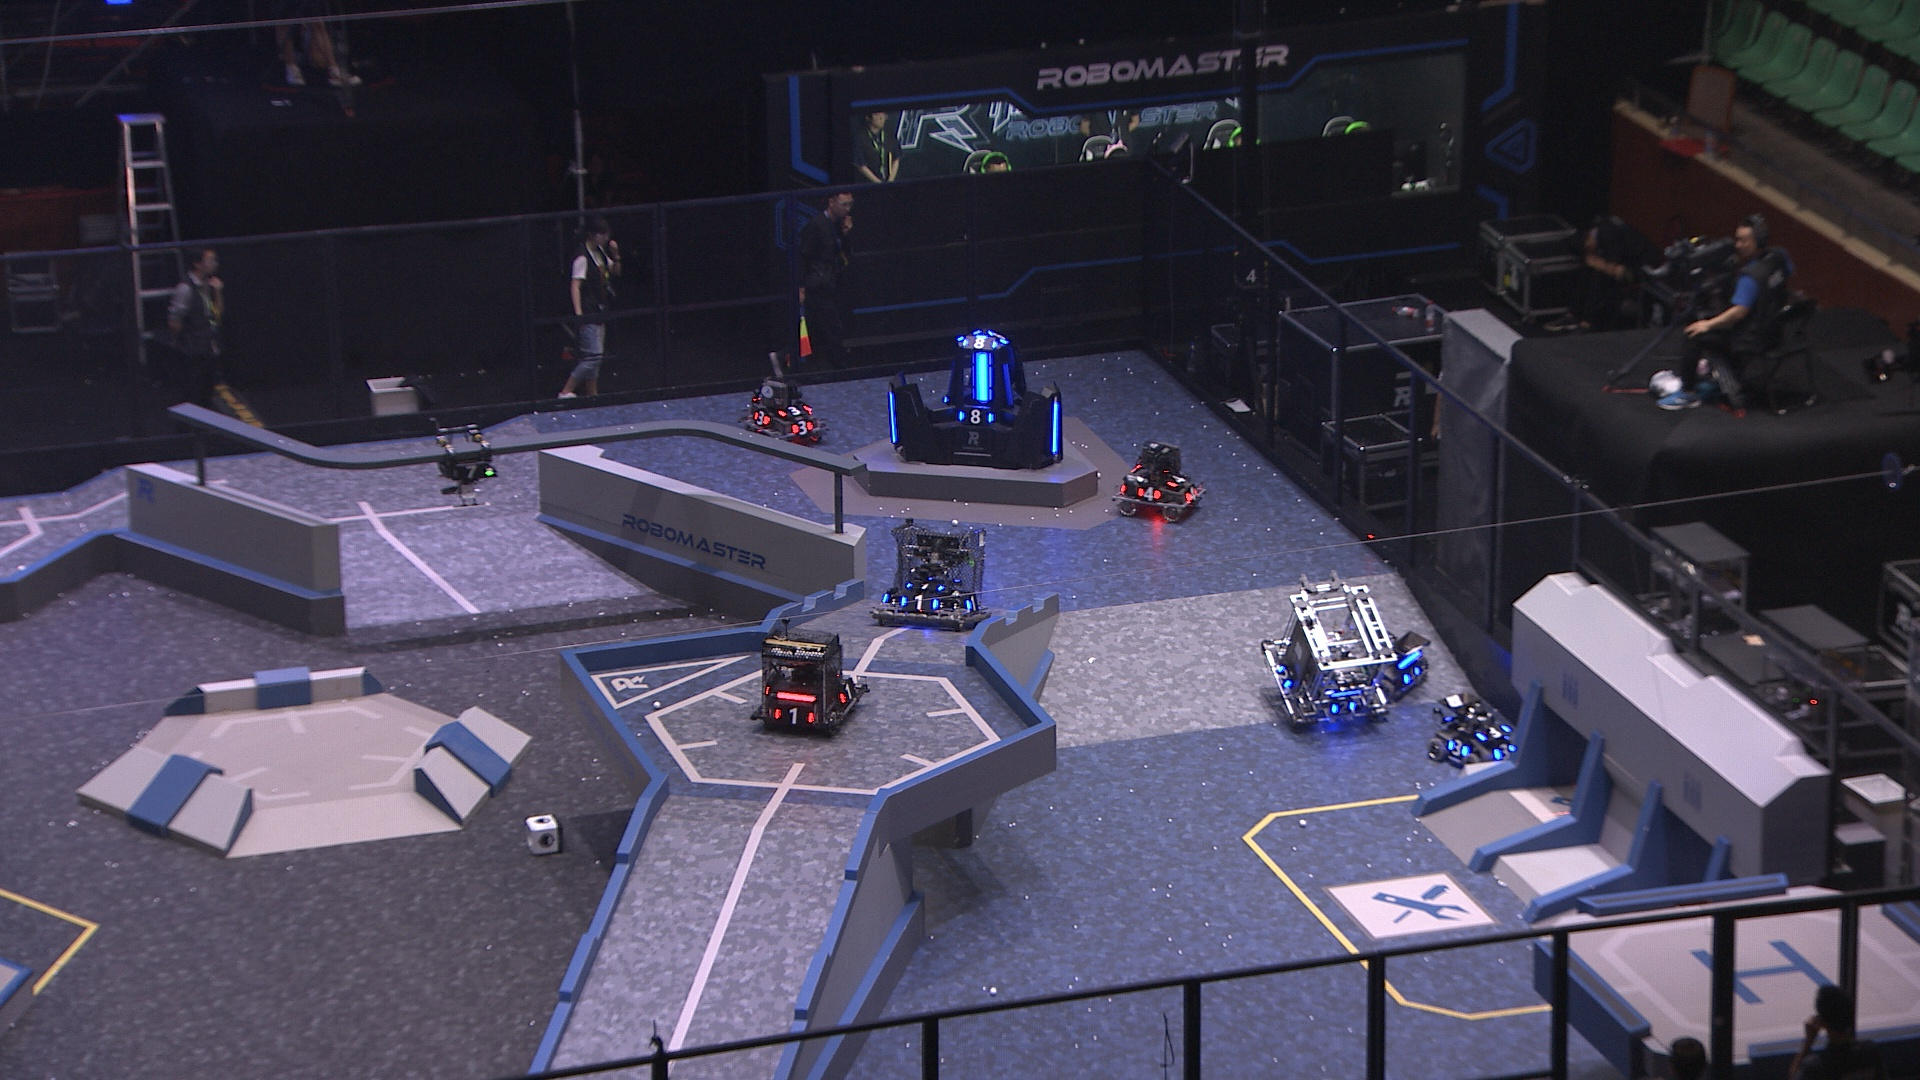armor: (771, 703, 818, 731), (898, 591, 942, 613), (452, 462, 495, 483), (955, 406, 997, 427), (1472, 721, 1513, 742), (885, 390, 901, 444), (961, 335, 1001, 353), (1447, 733, 1472, 761), (975, 353, 989, 400), (775, 400, 814, 417), (1001, 363, 1015, 406), (1494, 741, 1522, 764), (1133, 485, 1162, 506), (1050, 400, 1060, 454), (903, 578, 945, 591), (1400, 662, 1422, 684), (790, 418, 814, 438), (1275, 665, 1294, 690), (1332, 698, 1357, 716), (752, 406, 773, 427), (1164, 469, 1187, 489), (836, 680, 855, 704), (1183, 483, 1203, 504), (963, 593, 982, 612)
base: (882, 323, 1064, 473)
car: (1259, 568, 1396, 727), (870, 512, 994, 632), (749, 622, 868, 735), (1425, 690, 1528, 775), (1112, 436, 1207, 526), (731, 377, 825, 451), (1349, 622, 1432, 702)
watcher: (429, 422, 502, 509)
